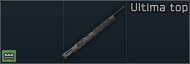MP-155 Ultima top rail: (0, 0, 190, 64)
